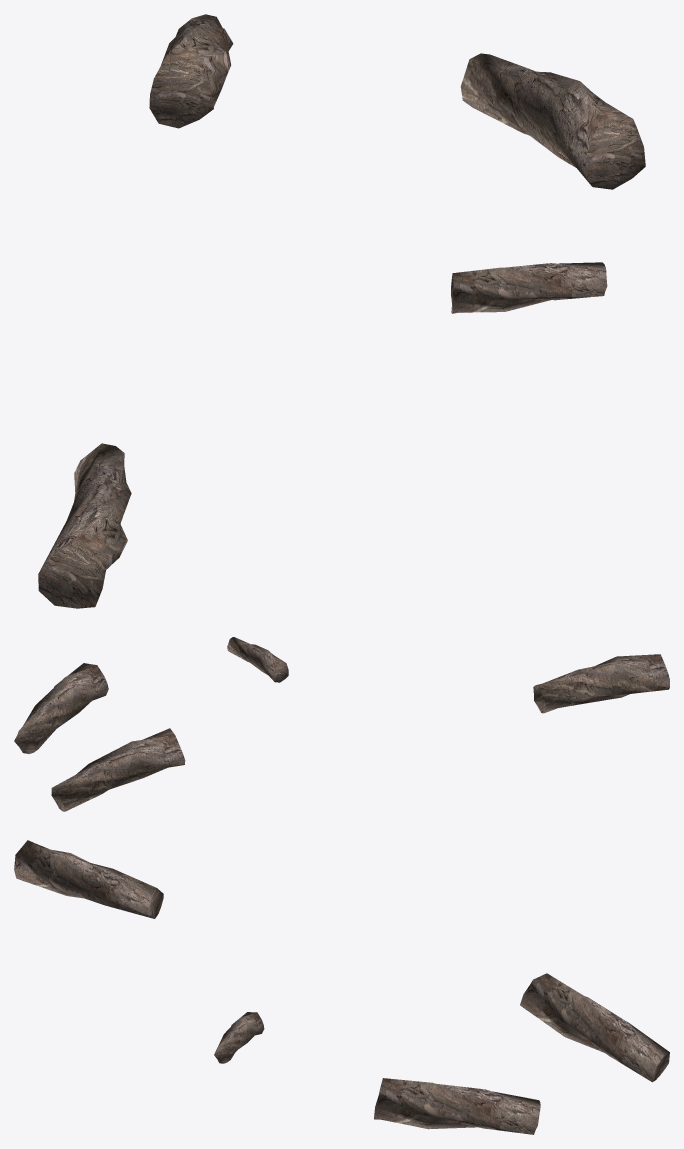
The model's file is troncos_escenario_v2.fbx.
3 renders of one model, top to bottom at view 1: azimuth 30°, elevation 25°; view 2: azimuth 150°, elevation 25°; view 3: azimuth 270°, elevation 25°, orthographic. The views are drawn at different scales.
Visible parts, largest first — view 1: tronco_suelto.003, tronco_suelto.001, tronco_suelto, tronco_suelto.002; view 2: tronco_suelto.001, tronco_suelto, tronco_suelto.003, tronco_suelto.002; view 3: tronco_suelto.003, tronco_suelto, tronco_suelto.001, tronco_suelto.002.
Boxes of the visible parts, x1,y1,x2,y2 form: tronco_suelto.003: (460, 53, 645, 189); tronco_suelto.001: (38, 443, 131, 608); tronco_suelto: (149, 14, 233, 128); tronco_suelto.002: (451, 262, 607, 313); tronco_suelto.001: (533, 654, 669, 713); tronco_suelto: (51, 728, 185, 811); tronco_suelto.003: (14, 663, 108, 753); tronco_suelto.002: (227, 637, 288, 682); tronco_suelto.003: (374, 1078, 540, 1134); tronco_suelto: (520, 973, 669, 1082); tronco_suelto.001: (14, 840, 163, 918); tronco_suelto.002: (214, 1012, 264, 1063).
Size of the model in its own units: 25065 by 3225 by 26930.
